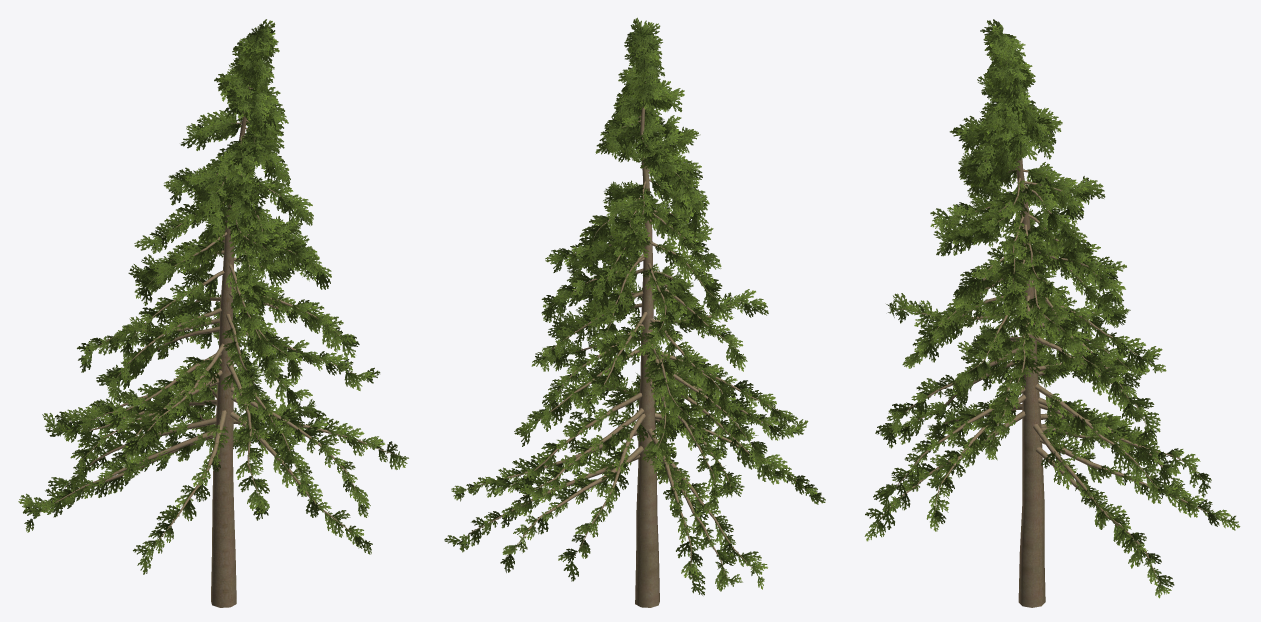
File: pine-medium.gltf
3 views of the same model, side by side, from view 1: azimuth 30°, elevation 25°; view 2: azimuth 150°, elevation 25°; view 3: azimuth 270°, elevation 25° (orthographic). The views are drawn at different scales.
Visible parts, largest first — view 1: Tree; view 2: Tree; view 3: Tree.
Part boxes in pixels (x1,y1,x2,y2): Tree: [18, 19, 408, 607]; Tree: [444, 17, 825, 607]; Tree: [864, 19, 1240, 607].
Bounding box in the file's own units: 28.89 × 51.1 × 29.97.
Materials: 2 (2 with a texture image).
